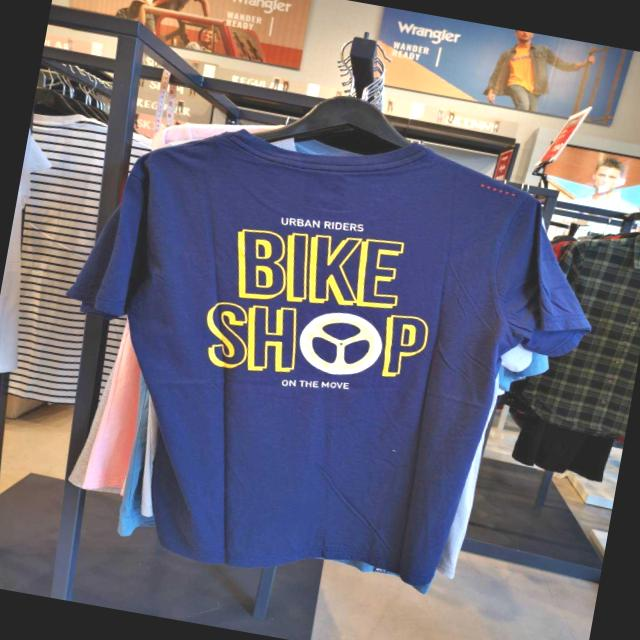Tshirt: (33, 101, 608, 618)
